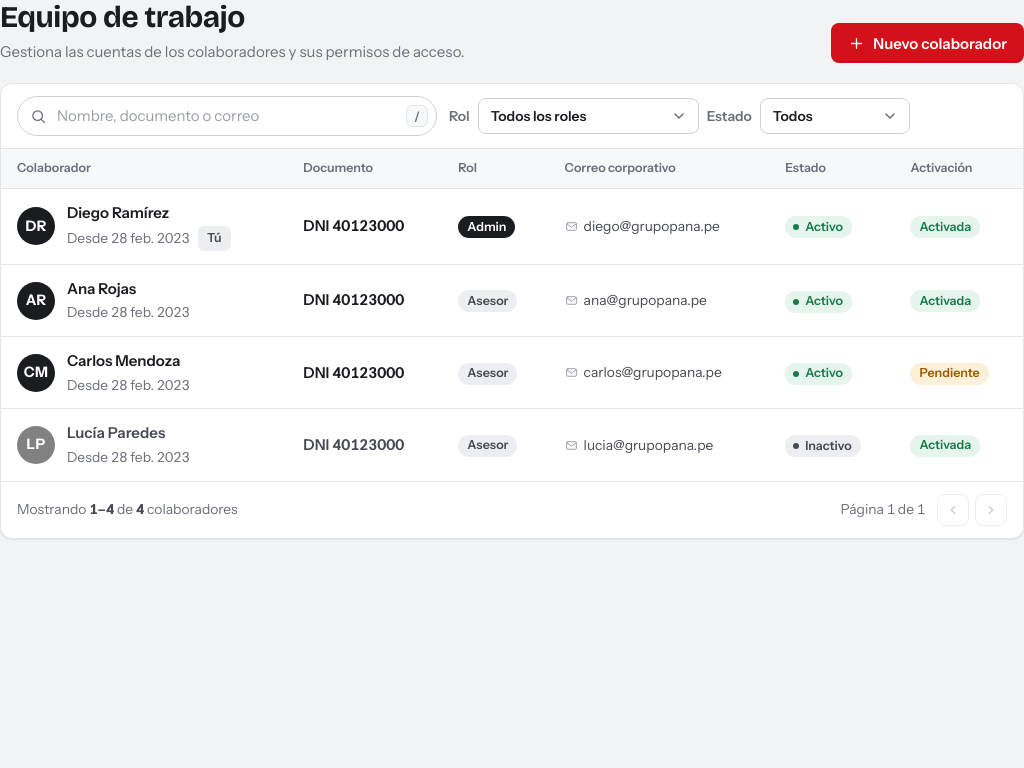
StaffPage › opening a person › opens the person's record from the name or from anywhere on the row
Click the button "Ana Rojas".
click(102, 289)  # box top-left (67, 278), bottom-right (136, 300)
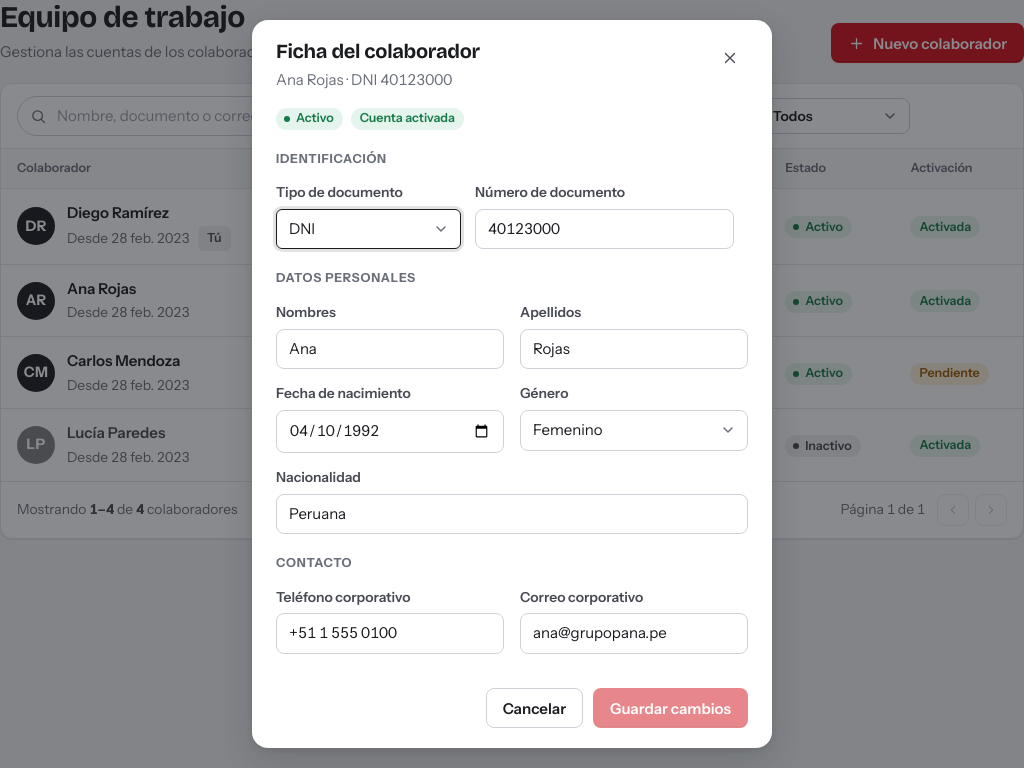
Now the text "Ana Rojas · DNI 40123000" is shown, box top-left (276, 69), bottom-right (480, 92)
Click the button "Cancelar".
click(534, 708)  # box top-left (486, 688), bottom-right (583, 728)
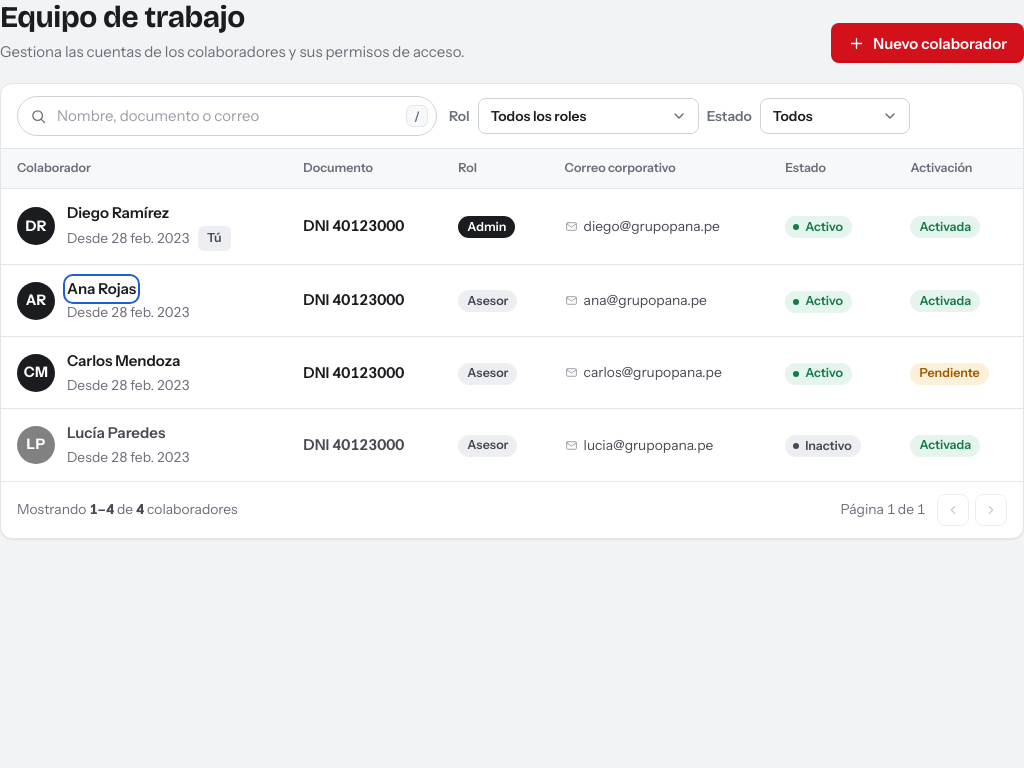
Click the text "Asesor" in the row of "CM".
click(488, 374)  # box top-left (458, 362), bottom-right (517, 384)
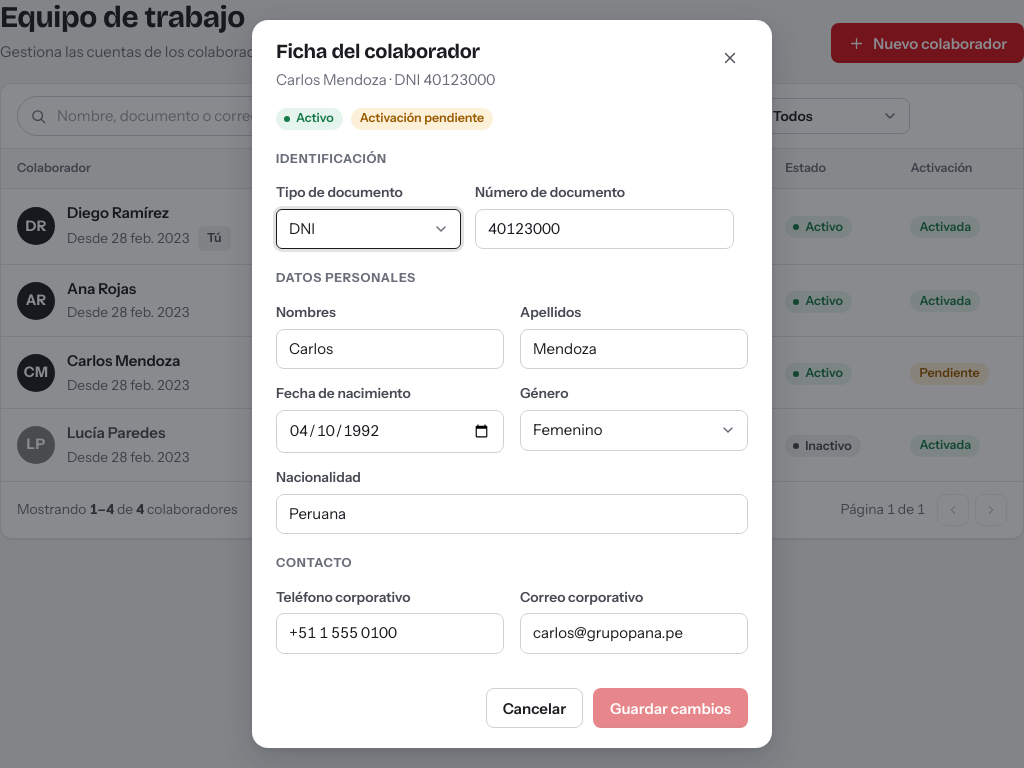
Now the dialog "Ficha del colaborador" is shown, box top-left (252, 20), bottom-right (772, 748)
